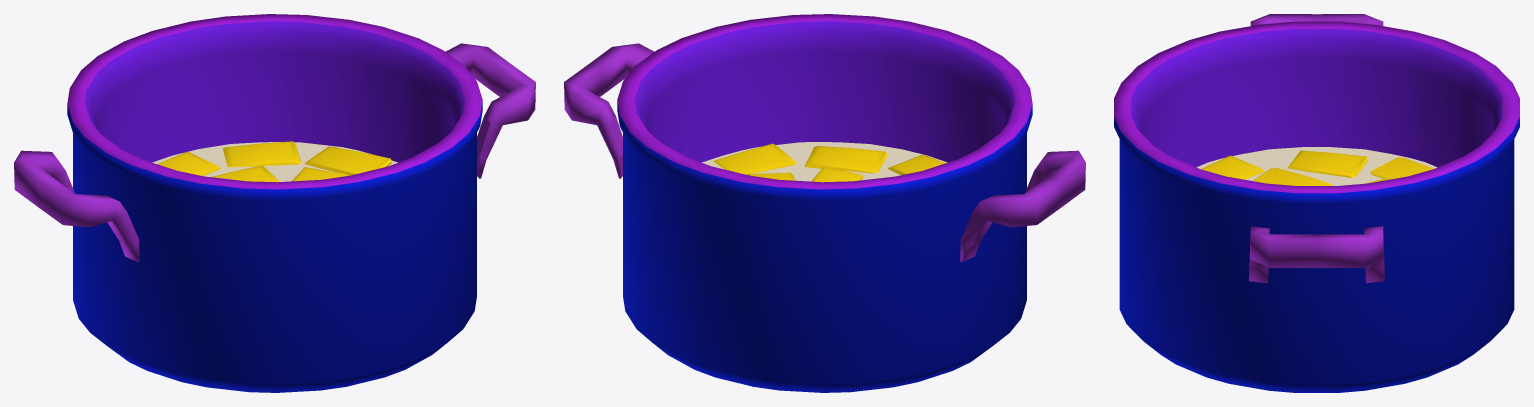
File: kaassoufle_pot_cooked_model.fbx
3 renders of one model, left to right at view 1: azimuth 30°, elevation 25°; view 2: azimuth 150°, elevation 25°; view 3: azimuth 270°, elevation 25°, orthographic.
Visible parts, largest first — view 1: KaassouflePotCookedPot, KaassouflePotCookedOil, KaassouflePotCookedModel_01, KaassouflePotCookedModel_06, KaassouflePotCookedModel_04, KaassouflePotCookedModel_02; view 2: KaassouflePotCookedPot, KaassouflePotCookedOil, KaassouflePotCookedModel_03, KaassouflePotCookedModel_05, KaassouflePotCookedModel_02; view 3: KaassouflePotCookedPot, KaassouflePotCookedOil, KaassouflePotCookedModel_01, KaassouflePotCookedModel_04, KaassouflePotCookedModel_05, KaassouflePotCookedModel_02.
Boxes of the visible parts, left/top/right/bottom form: KaassouflePotCookedPot: left=14, top=14, right=535, bottom=392; KaassouflePotCookedOil: left=152, top=142, right=397, bottom=181; KaassouflePotCookedModel_01: left=223, top=141, right=301, bottom=167; KaassouflePotCookedModel_06: left=304, top=146, right=391, bottom=175; KaassouflePotCookedModel_04: left=158, top=151, right=348, bottom=181; KaassouflePotCookedModel_02: left=211, top=165, right=279, bottom=182; KaassouflePotCookedPot: left=564, top=14, right=1085, bottom=392; KaassouflePotCookedOil: left=702, top=142, right=947, bottom=181; KaassouflePotCookedModel_03: left=713, top=143, right=863, bottom=182; KaassouflePotCookedModel_05: left=804, top=146, right=887, bottom=173; KaassouflePotCookedModel_02: left=888, top=154, right=945, bottom=175; KaassouflePotCookedPot: left=1114, top=14, right=1519, bottom=392; KaassouflePotCookedOil: left=1196, top=147, right=1437, bottom=185; KaassouflePotCookedModel_01: left=1287, top=150, right=1368, bottom=177; KaassouflePotCookedModel_04: left=1201, top=155, right=1264, bottom=179; KaassouflePotCookedModel_05: left=1370, top=157, right=1433, bottom=179; KaassouflePotCookedModel_02: left=1253, top=168, right=1332, bottom=185.
Bounding box in the file's own units: 62.94 × 83.38 × 35.99.
